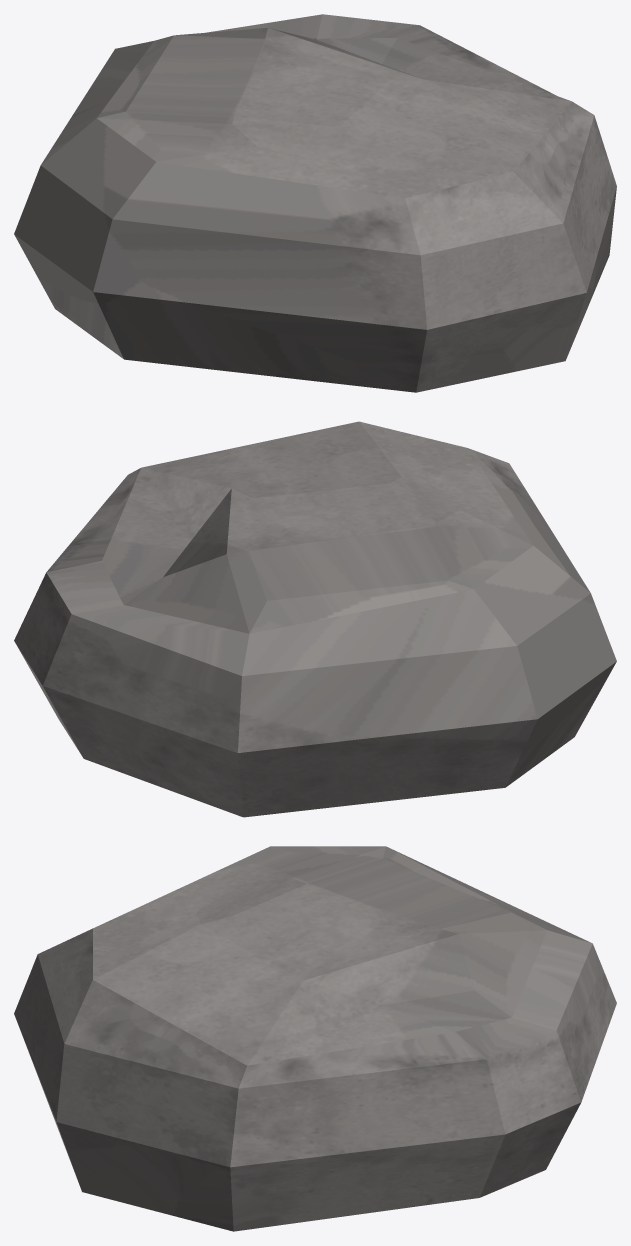
File: petite pierre 5.fbx
3 renders of one model, top to bottom at view 1: azimuth 30°, elevation 25°; view 2: azimuth 150°, elevation 25°; view 3: azimuth 270°, elevation 25°, orthographic. The views are drawn at different scales.
Parts seen in each view (by area): view 1: Cube.011; view 2: Cube.011; view 3: Cube.011.
Boxes of the visible parts, x1=… form: Cube.011: x1=14, y1=14, x2=616, y2=392; Cube.011: x1=14, y1=421, x2=616, y2=817; Cube.011: x1=14, y1=846, x2=616, y2=1231.
Size of the model in its own units: 79.58 by 32.02 by 83.53.
